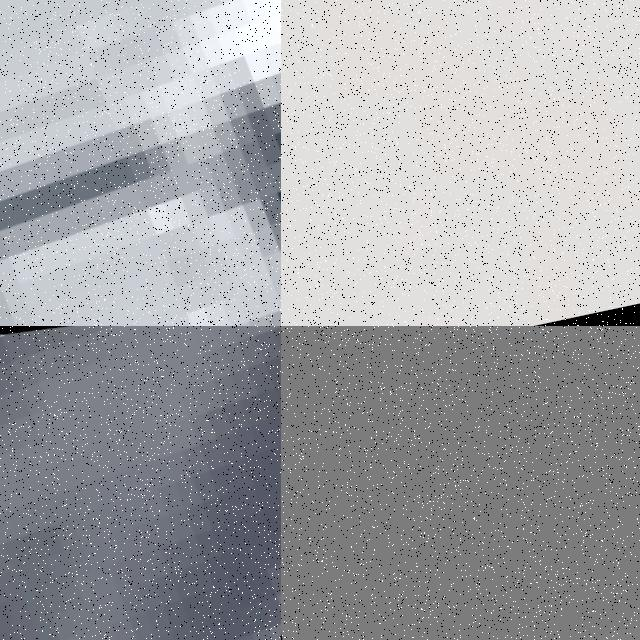0: (0, 0, 281, 326)
drone: (0, 326, 281, 640)
